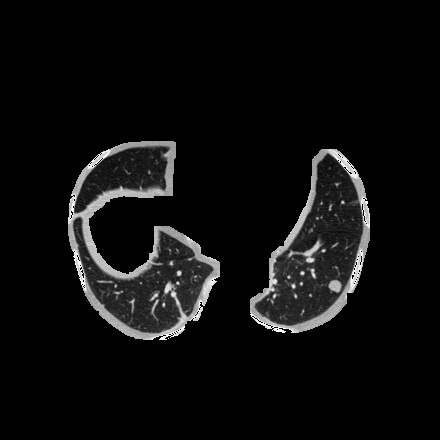PN: (329, 279, 341, 291)
